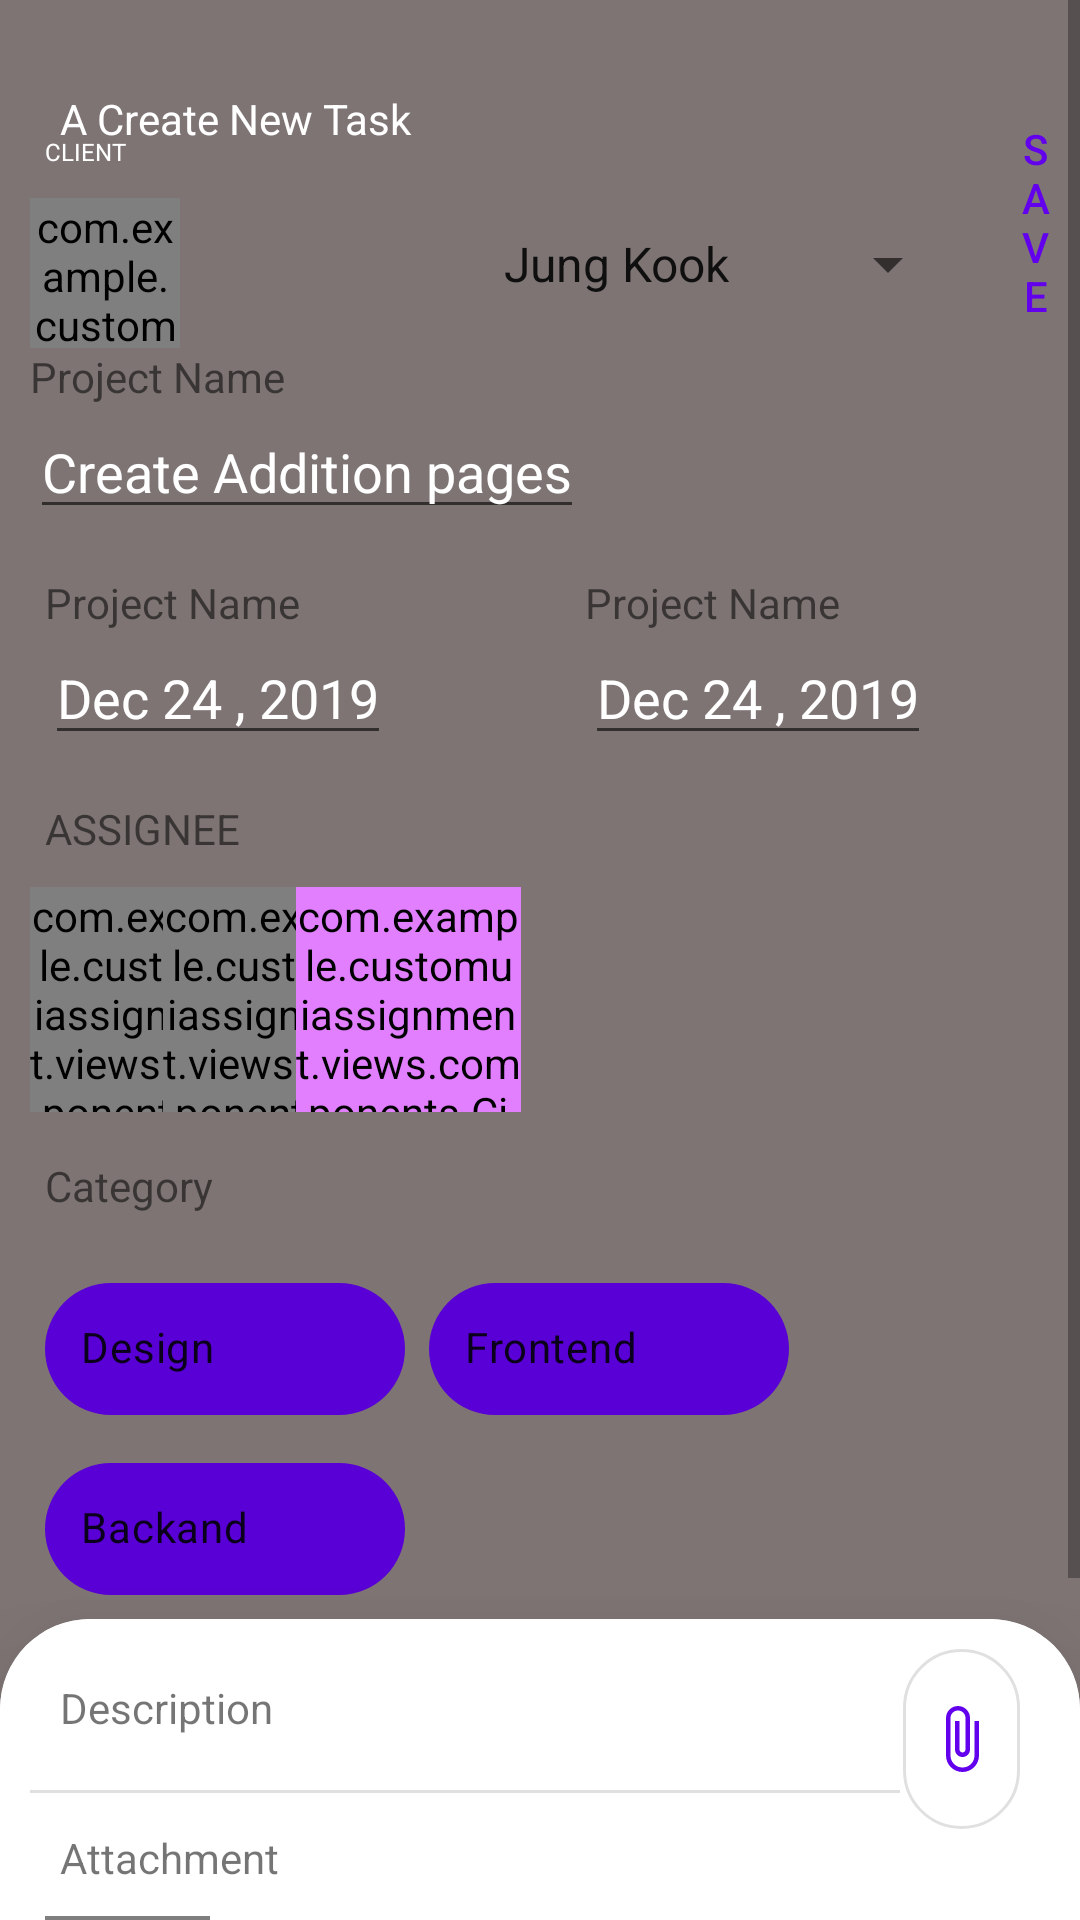

Named icons in this screenshot (1080*1920) and their bounding boxes, (x1, y1, x2, y2):
attach file: (903, 1649, 1020, 1829)
